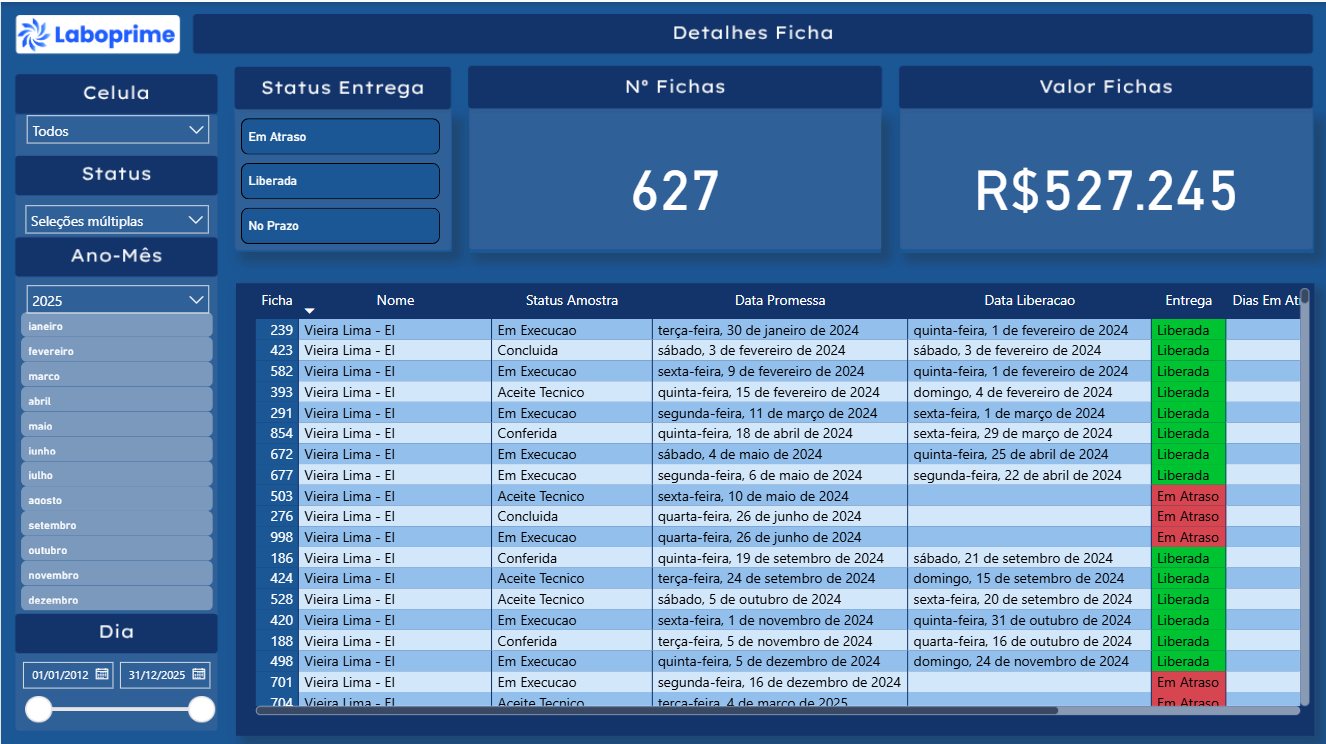

Layout of this report page (visuals, bound fields, positions):
{"tool":"powerbi","page":{"name":"Detalhes Ficha","canvas":[1280,720],"ordinal":1},"visuals":[{"type":"tableEx","fields":{"Values":["vw_bi_tecnico_operacional.idficha","vw_bi_tecnico_operacional.nomereduzido","vw_bi_tecnico_operacional.status_amostra_macro","vw_bi_tecnico_operacional.datapromessa","vw_bi_tecnico_operacional.dataliberacao","vw_bi_tecnico_operacional.status_entrega","vw_bi_tecnico_operacional.dias_em_atraso","_Medidas.Qtd Amostras na Ficha","_Medidas.Qtd Ensaios na Ficha","_Medidas.Valor por Ficha"]},"box":[226.8,271.4,1041.2,436.7],"z":0},{"type":"card","fields":{"Values":["_Medidas.Qtd Fichas (Filtrado)"]},"box":[451.8,107.2,398.8,134.3],"z":1000},{"type":"card","fields":{"Values":["_Medidas.Valor por Ficha"]},"box":[867.5,107.2,400,134.3],"z":2000},{"type":"advancedSlicerVisual","fields":{"Values":["vw_bi_tecnico_operacional.status_entrega"]},"box":[226.8,107.4,208.7,133.9],"z":3000},{"type":"slicer","fields":{"Values":["vw_bi_tecnico_operacional.celula_realizada_nome"]},"box":[13.9,99,196.6,44.6],"z":4000},{"type":"slicer","fields":{"Values":["vw_bi_tecnico_operacional.status_amostra_macro"]},"box":[13.2,185.3,197.1,44.1],"z":5000},{"type":"slicer","fields":{"Values":["dCalendario.Ano"]},"box":[13.9,263.5,196.6,44.6],"z":6000},{"type":"slicer","fields":{"Values":["dCalendario.Date"]},"box":[13.7,632.1,196.8,71.6],"z":8000},{"type":"advancedSlicerVisual","fields":{"Values":["dCalendario.Mes"]},"box":[14.5,294.4,195,300],"z":8001}]}

Visuals, with their boxes in screenshot pixels (x1, y1, x2, y2), scaled from the page's 1280x720 canvas onto the 1326x744 screenshot:
tableEx - vw_bi_tecnico_operacional.idficha x vw_bi_tecnico_operacional.nomereduzido: box=[235, 280, 1314, 732]
card - _Medidas.Qtd Fichas (Filtrado): box=[468, 111, 881, 250]
card - _Medidas.Valor por Ficha: box=[899, 111, 1313, 250]
advancedSlicerVisual - vw_bi_tecnico_operacional.status_entrega: box=[235, 111, 451, 249]
slicer - vw_bi_tecnico_operacional.celula_realizada_nome: box=[14, 102, 218, 148]
slicer - vw_bi_tecnico_operacional.status_amostra_macro: box=[14, 191, 218, 237]
slicer - dCalendario.Ano: box=[14, 272, 218, 318]
slicer - dCalendario.Date: box=[14, 653, 218, 727]
advancedSlicerVisual - dCalendario.Mes: box=[15, 304, 217, 614]
